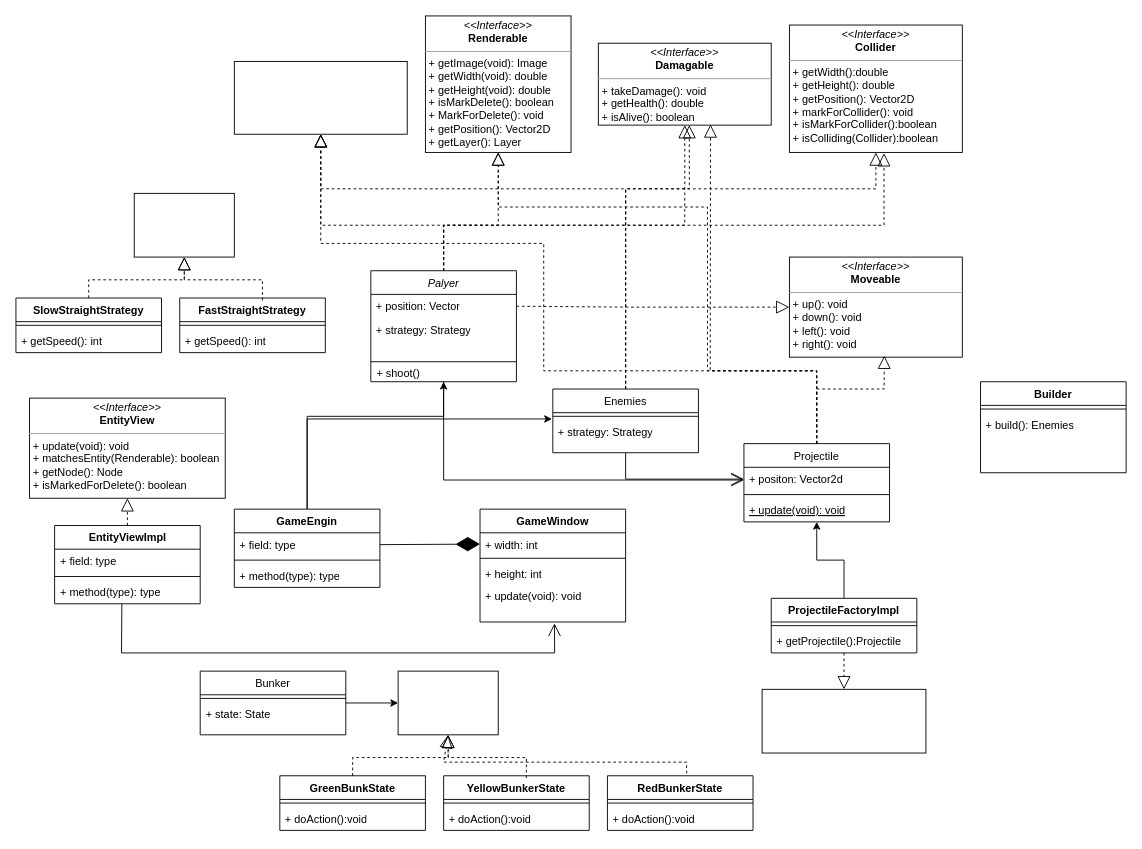
Some shapes in this 1142 by 849 pixel diagram are drawn without their labels. The centre of each missing label's shape, as x and y in pixels:
"<<Interface>> GameObject + start(void): void + update(void,): void" belongs at (x=320, y=97).
"<<Interface>> ProjectileFactory + getProjectile():Projectile" belongs at (x=843, y=720).
"<<Interface>> State + doAction():void" belongs at (x=447, y=702).
"<<Interface>> Strategy + getSpeed():int" belongs at (x=183, y=224).
